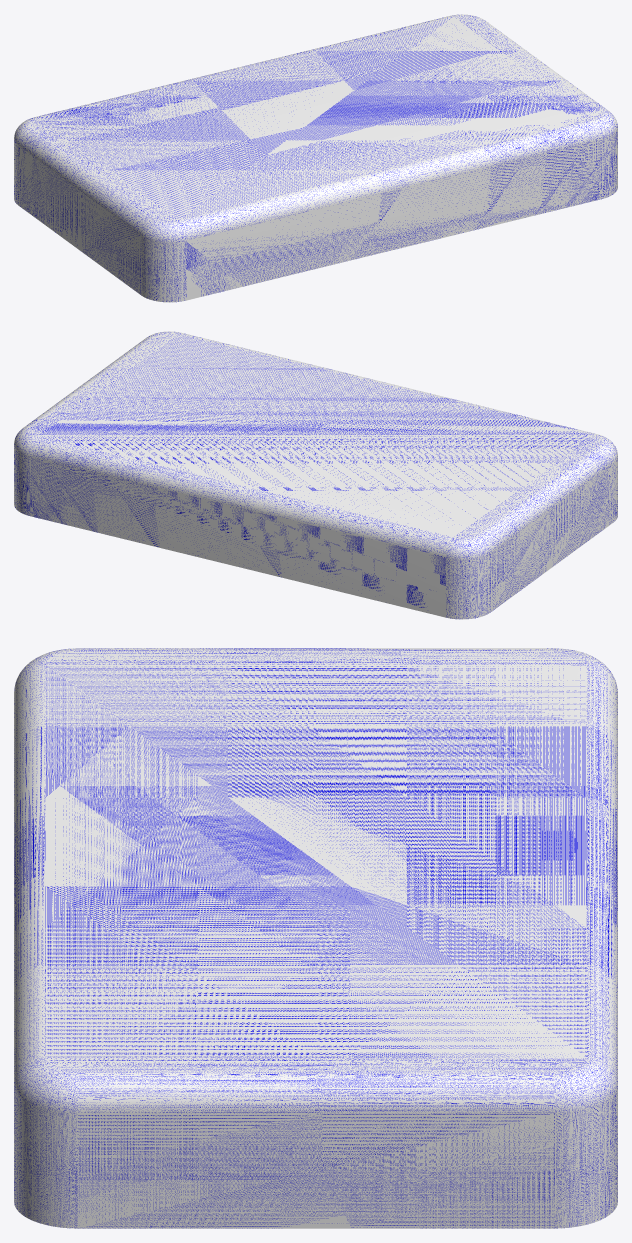
File: original-35.obj
3 renders of one model, top to bottom at view 1: azimuth 30°, elevation 25°; view 2: azimuth 150°, elevation 25°; view 3: azimuth 270°, elevation 25°, orthographic. The views are drawn at different scales.
Visible parts, largest first — view 1: Component_11_10/Component_11/mesh3/mesh3-geometry#mesh3-geometry; view 2: Component_11_10/Component_11/mesh3/mesh3-geometry#mesh3-geometry; view 3: Component_11_10/Component_11/mesh3/mesh3-geometry#mesh3-geometry.
Part boxes in pixels (x1=…): Component_11_10/Component_11/mesh3/mesh3-geometry#mesh3-geometry: x1=14, y1=14, x2=617, y2=302; Component_11_10/Component_11/mesh3/mesh3-geometry#mesh3-geometry: x1=14, y1=331, x2=617, y2=619; Component_11_10/Component_11/mesh3/mesh3-geometry#mesh3-geometry: x1=14, y1=648, x2=617, y2=1228.
Bounding box in the file's own units: 0.0704 × 0.0106 × 0.0402.
